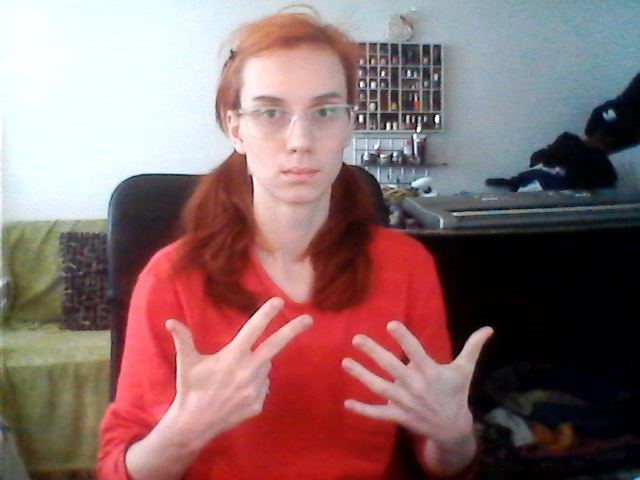osem: (159, 295, 497, 438)
